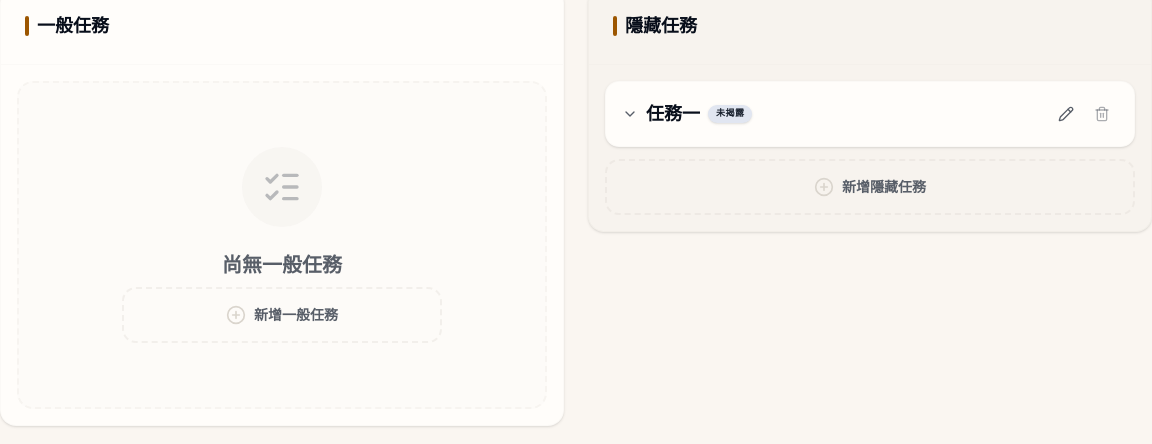
Test: TasksEditForm gameItems 來源 › 以 gameItems prop 顯示隱藏任務揭露條件的物品名稱，且不呼叫 getGameItems
Note: 展開任務卡片以顯示揭露條件
Click the heading "任務一".
click(673, 114)  # box [646, 100, 700, 128]
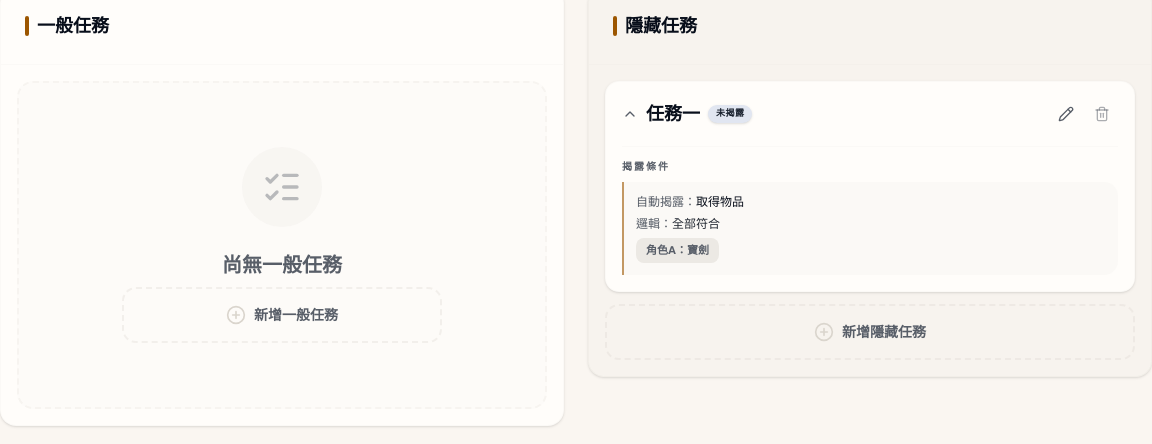
Now the text "角色A：寶劍" is shown, box [636, 238, 719, 262]
